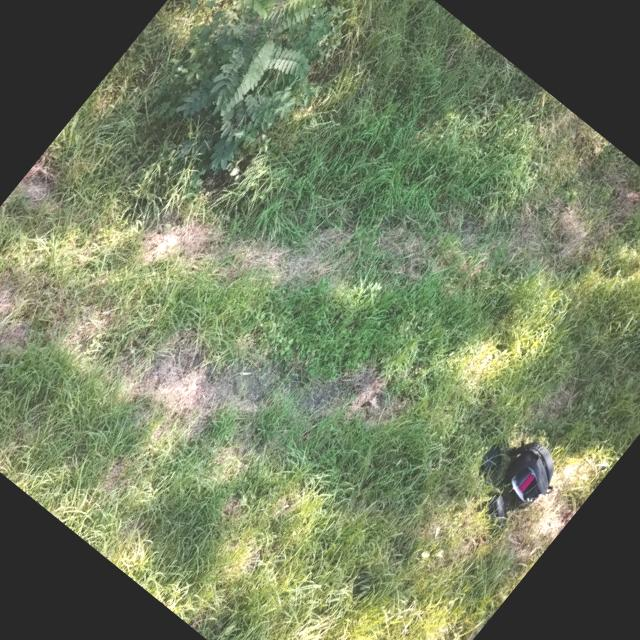Mysore-Thorn-Weed: (97, 0, 399, 197)
